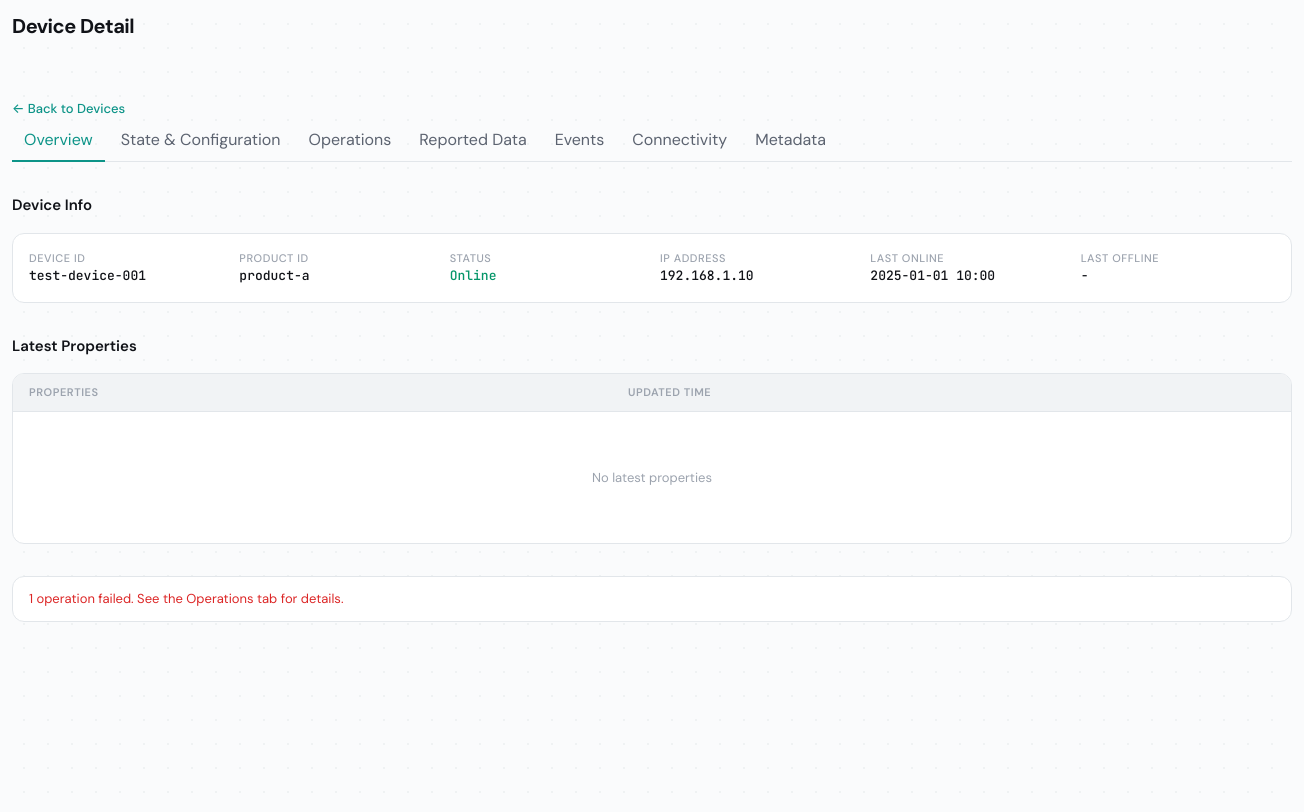
Scenario: operation success coexisting with Out of sync (G3) › shows Out of sync in State & Configuration while the operation shows Success
The image size is (1304, 812).
Click the tab "State & Configuration" at coordinates (201, 141), box x1=109 y1=120 x2=293 y2=162
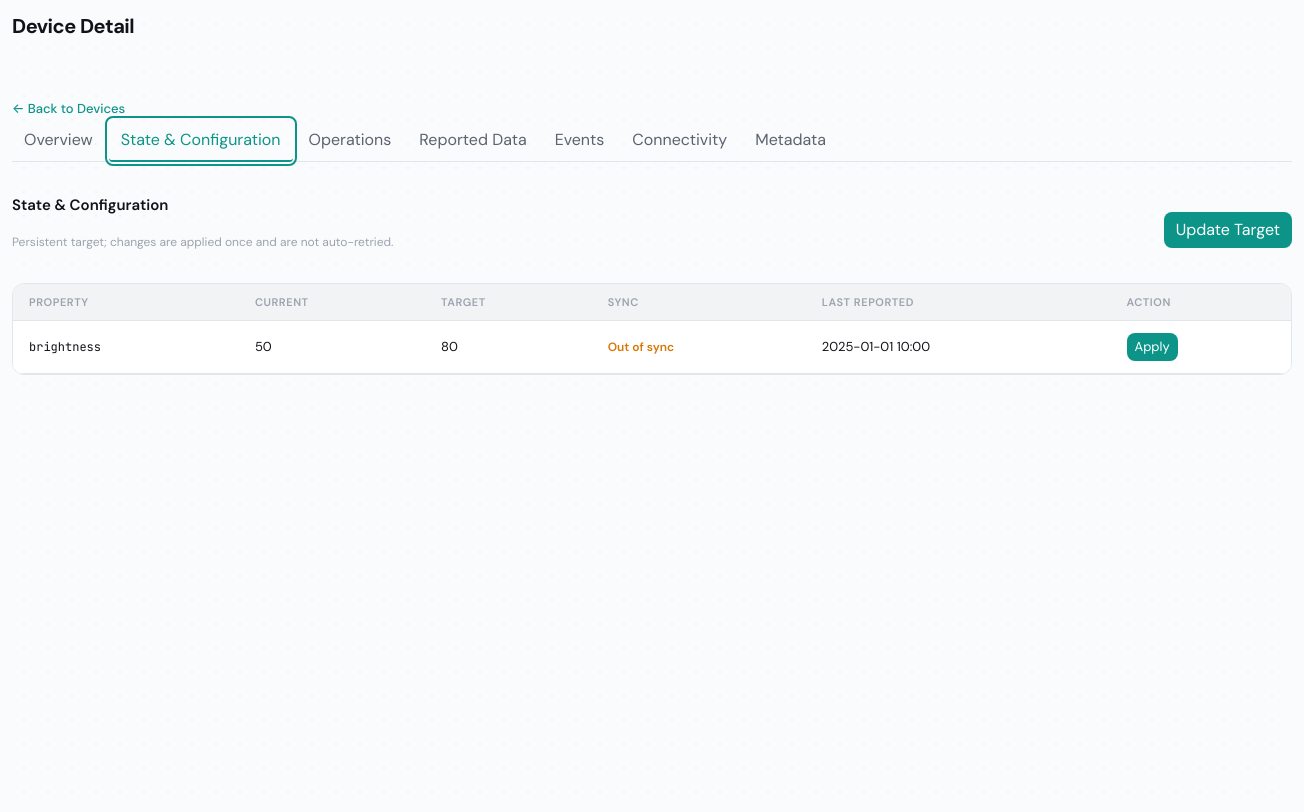
Expected: the text "Out of sync" is shown, x1=608 y1=339 x2=674 y2=355
Click the tab "Operations" at coordinates (350, 141), box x1=296 y1=120 x2=403 y2=162
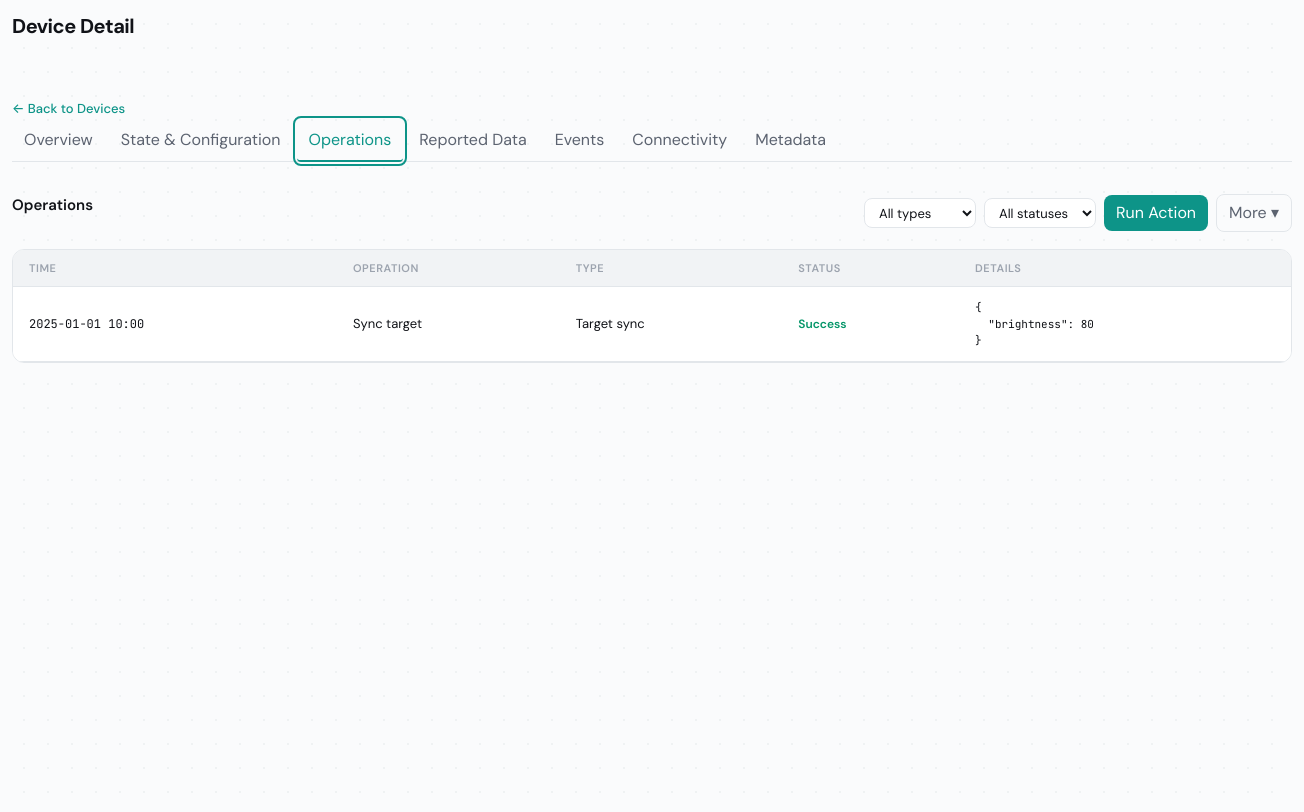
Expected: the text "Target sync" is shown, x1=560 y1=286 x2=782 y2=361
Expected: the text "Success" is shown, x1=798 y1=316 x2=847 y2=332
